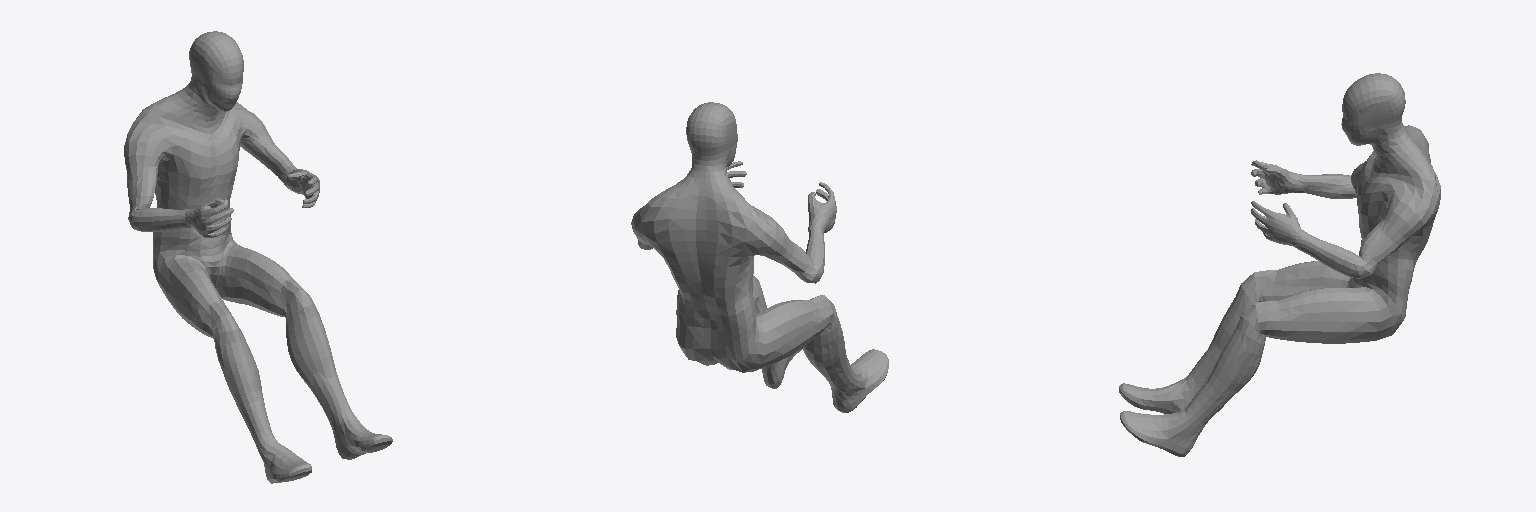
Rendered from DRIVER.obj.
The picture shows the model from 3 angles: view 1: azimuth 30°, elevation 25°; view 2: azimuth 150°, elevation 25°; view 3: azimuth 270°, elevation 25°; orthographic projection.
Visible parts, largest first — view 1: Human_BaseMesh_Mesh; view 2: Human_BaseMesh_Mesh; view 3: Human_BaseMesh_Mesh.
Boxes of the visible parts, x1=… form: Human_BaseMesh_Mesh: x1=124, y1=31, x2=392, y2=483; Human_BaseMesh_Mesh: x1=631, y1=102, x2=888, y2=412; Human_BaseMesh_Mesh: x1=1119, y1=73, x2=1440, y2=456.
Size of the model in its own units: 69.67 by 137 by 109.